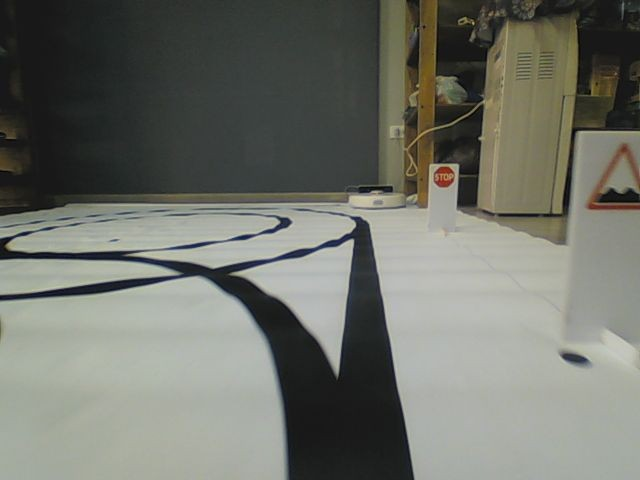Stop: (432, 166, 457, 188)
